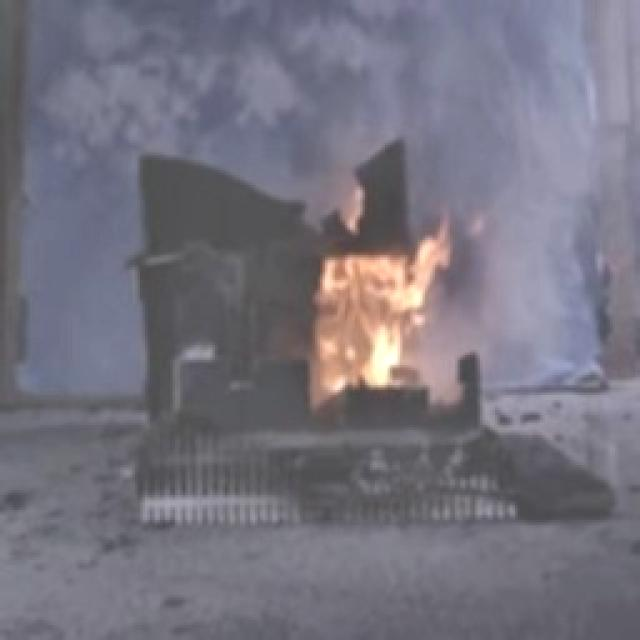fire: (288, 192, 458, 414)
